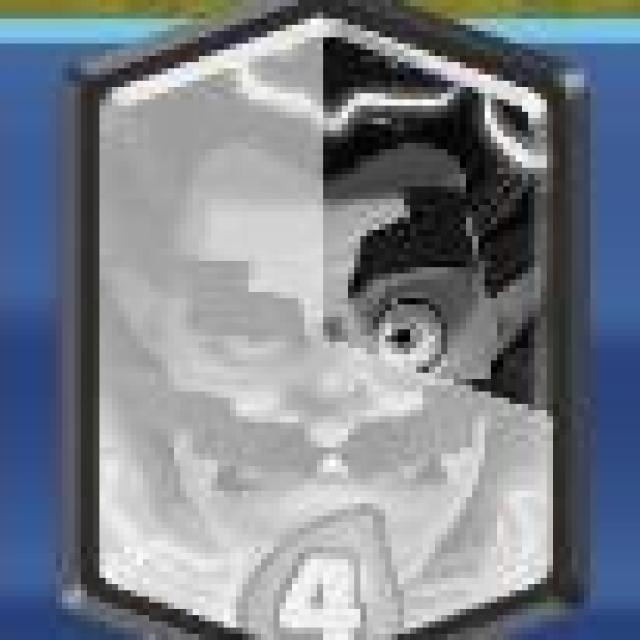Electro_Wizard: (76, 6, 588, 640)
